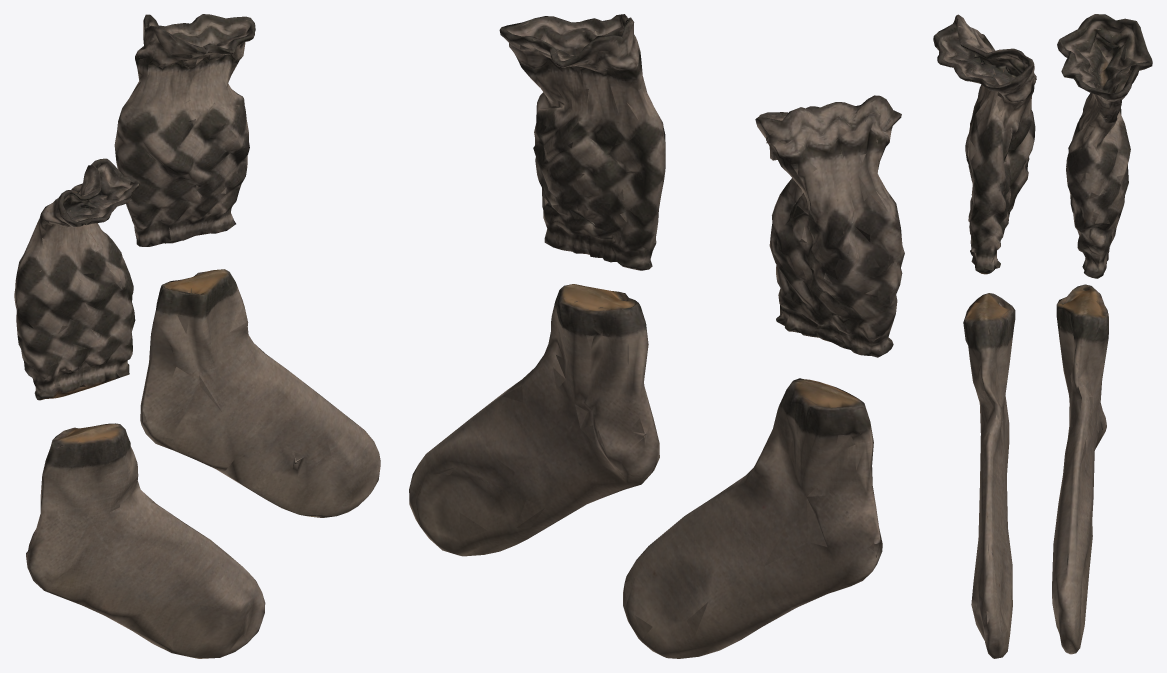
Rendered from A98F229A-AABA-2E47-A8C3-5B079EE7F652_512.glb.
3 views of the same model, side by side, from view 1: azimuth 30°, elevation 25°; view 2: azimuth 150°, elevation 25°; view 3: azimuth 270°, elevation 25° (orthographic). The views are drawn at different scales.
Parts seen in each view (by area): view 1: socken und loferl kariert kombiniert_1k; view 2: socken und loferl kariert kombiniert_1k; view 3: socken und loferl kariert kombiniert_1k.
Part boxes in pixels (left/top/right/bottom): socken und loferl kariert kombiniert_1k: left=14, top=14, right=380, bottom=658; socken und loferl kariert kombiniert_1k: left=409, top=14, right=904, bottom=658; socken und loferl kariert kombiniert_1k: left=933, top=14, right=1152, bottom=658.
Bounding box in the file's own units: 0.4159 × 0.5982 × 0.1876.
1 material, 1 textured.
